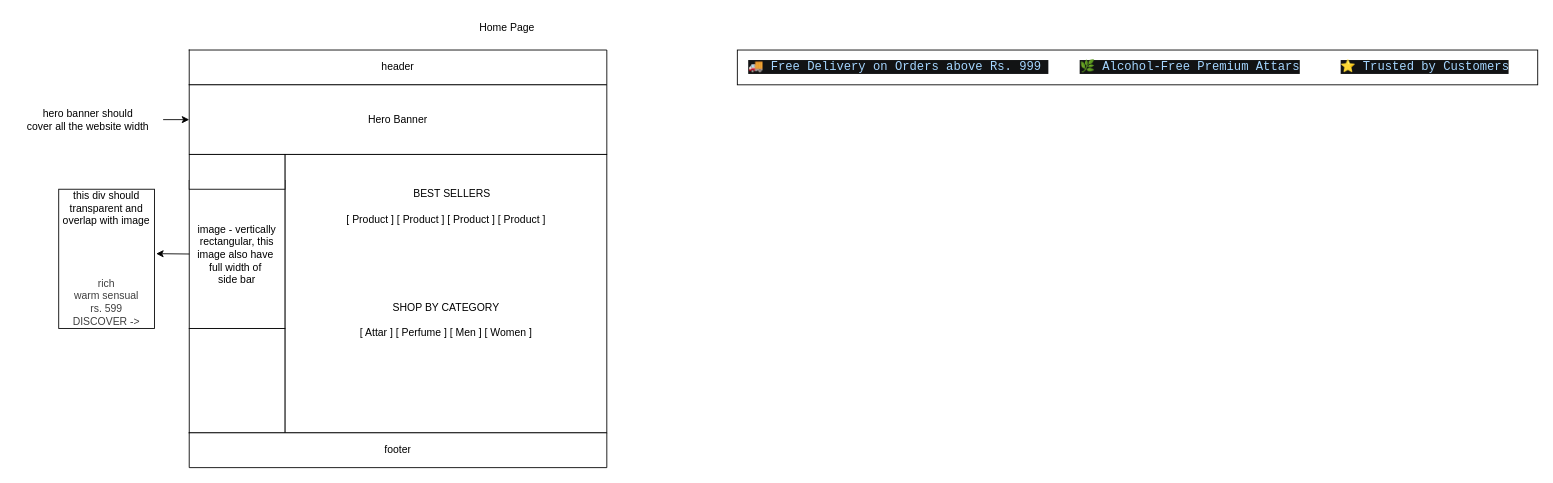
The diagram is 1553 pixels wide and 483 high, and some of its shapes have lost their labels. Here are the shapes that lost their labels. From the top down, the centre of each, then its label:
At [236,171]: "todays pick".
At [236,380]: "we will add suitable things later here".
